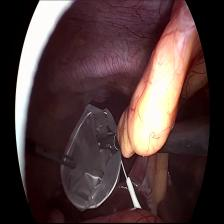Grasper: (34, 150, 76, 169), (94, 126, 120, 152)
Specimen Bag: (63, 94, 121, 222)
